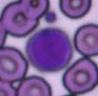L: (25, 27, 73, 72)
